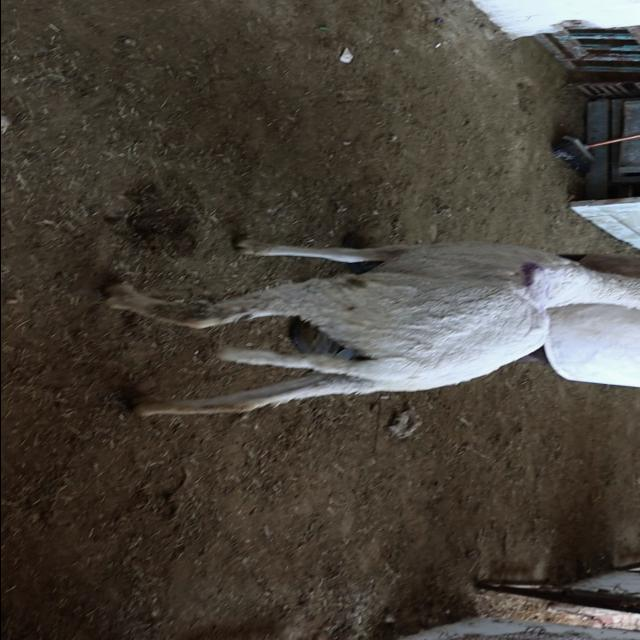Score_3: (105, 238, 640, 415)
